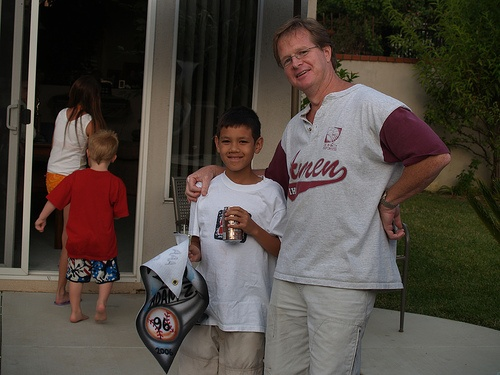head: (271, 15, 332, 92), (212, 107, 263, 171), (60, 72, 102, 124), (86, 132, 118, 168)
person: (245, 14, 455, 375), (173, 101, 288, 375), (32, 127, 128, 321), (46, 76, 102, 190)
